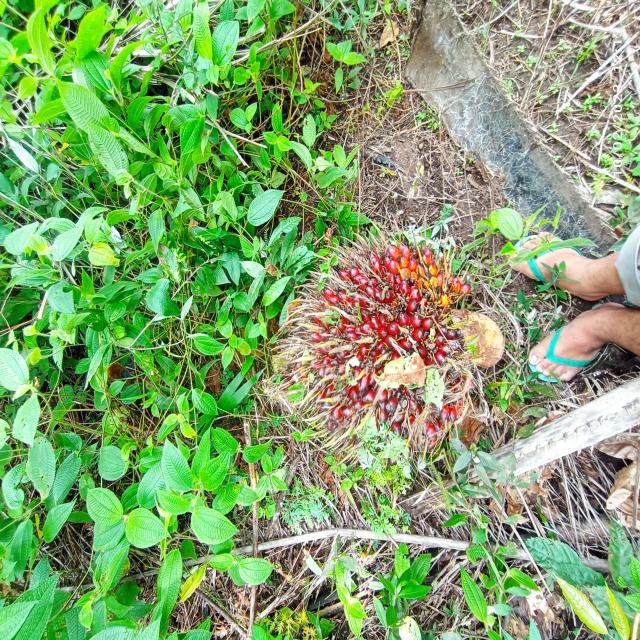fraksi 3: (267, 197, 499, 485)
